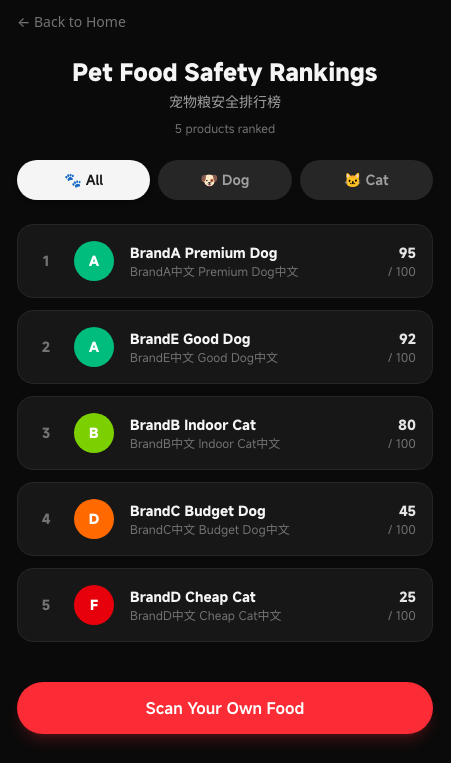
Test: RankingClient › filters to dog food only
Click the button with test id "filter-dog".
click(225, 180)  # box [158, 160, 292, 200]
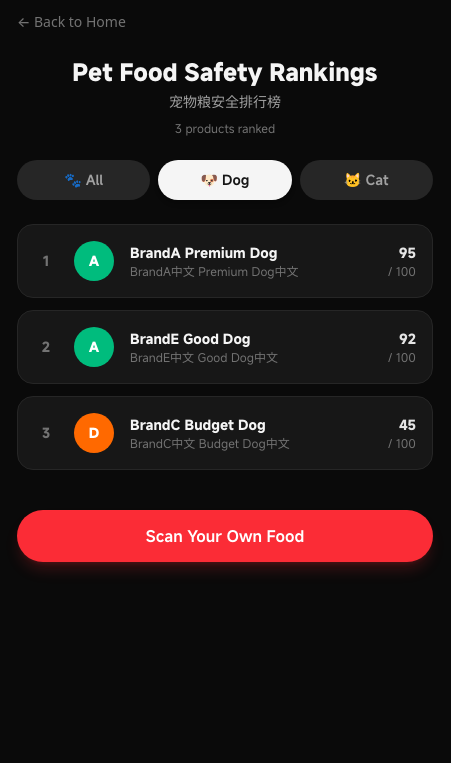
Expected: the text "BrandA Premium Dog" is shown, [130, 243, 277, 262]
Expected: the text "3 products ranked" is shown, [175, 120, 275, 136]
Expected: the link "BrandB Indoor Cat" is gone
